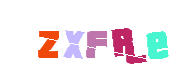E: (114, 0, 194, 80)
F: (56, 0, 136, 80)
R: (85, 0, 165, 80)
X: (45, 0, 125, 80)
Z: (8, 0, 88, 80)
